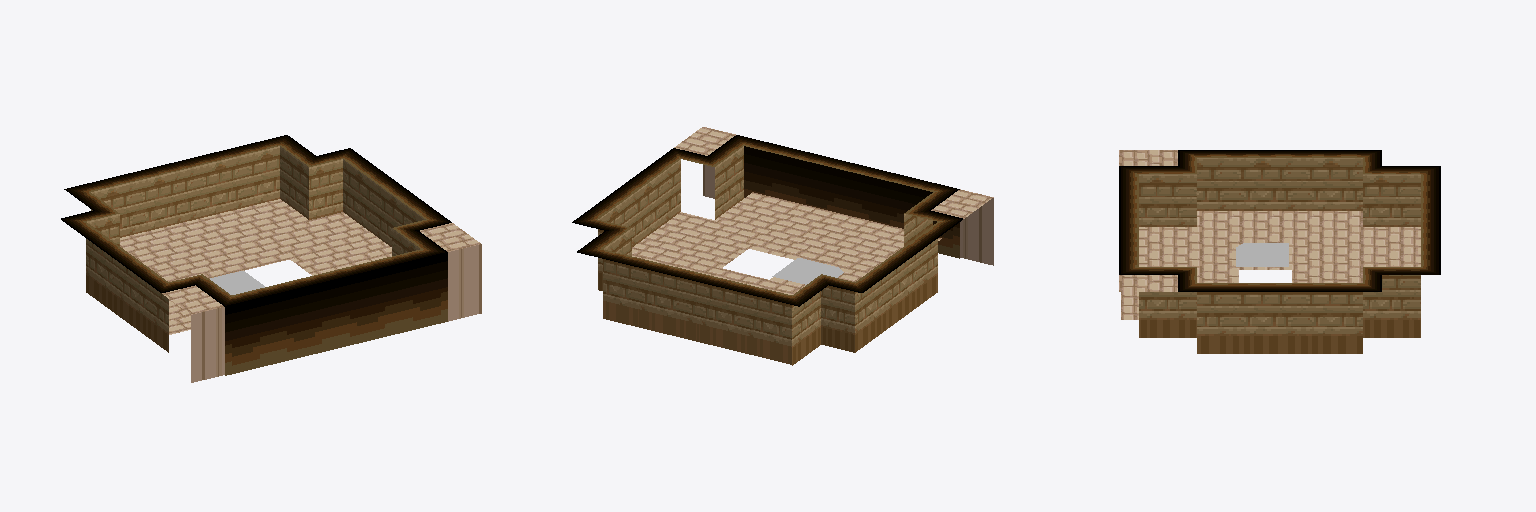
3 views of the same model, side by side, from view 1: azimuth 30°, elevation 25°; view 2: azimuth 150°, elevation 25°; view 3: azimuth 270°, elevation 25° (orthographic).
Visible parts, largest first — view 1: polygon0, polygon1, polygon2, polygon3; view 2: polygon1, polygon2, polygon0, polygon3; view 3: polygon1, polygon2, polygon0, polygon3.
Boxes of the visible parts, <box> form: polygon0: <box>61,135,451,375</box>; polygon1: <box>86,146,425,352</box>; polygon2: <box>120,199,481,382</box>; polygon3: <box>210,271,264,294</box>; polygon1: <box>598,146,937,365</box>; polygon2: <box>632,127,993,294</box>; polygon0: <box>572,135,962,306</box>; polygon3: <box>772,258,843,284</box>; polygon1: <box>1139,158,1420,353</box>; polygon2: <box>1119,150,1420,319</box>; polygon0: <box>1119,150,1440,291</box>; polygon3: <box>1236,243,1288,266</box>.
Bounding box in the file's own units: 8.62 × 2 × 8.25.
Materials: 4 (3 with a texture image).